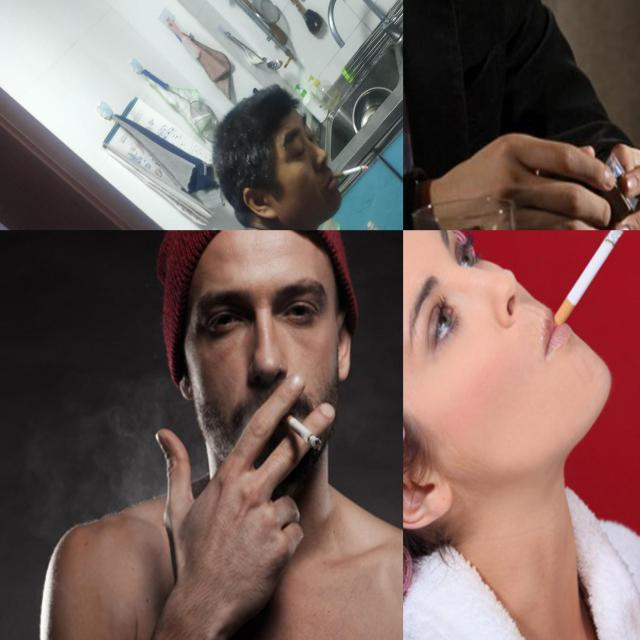smoke: (552, 230, 626, 331), (283, 410, 326, 452), (332, 164, 369, 180)
